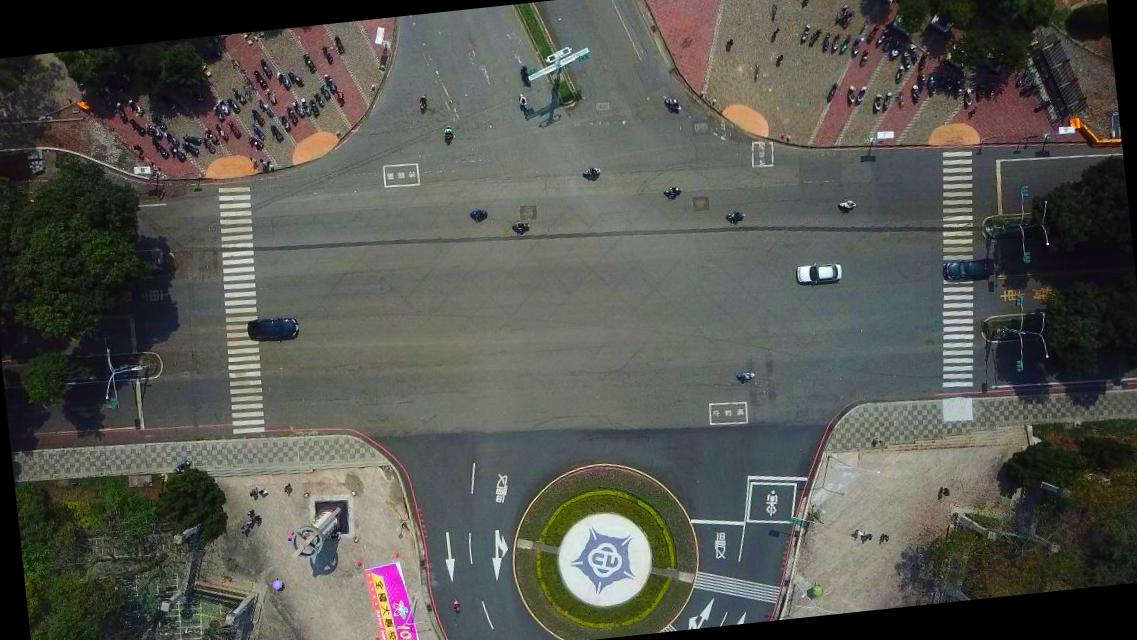vehicle: (245, 314, 301, 346), (940, 255, 997, 286), (794, 259, 845, 288)
